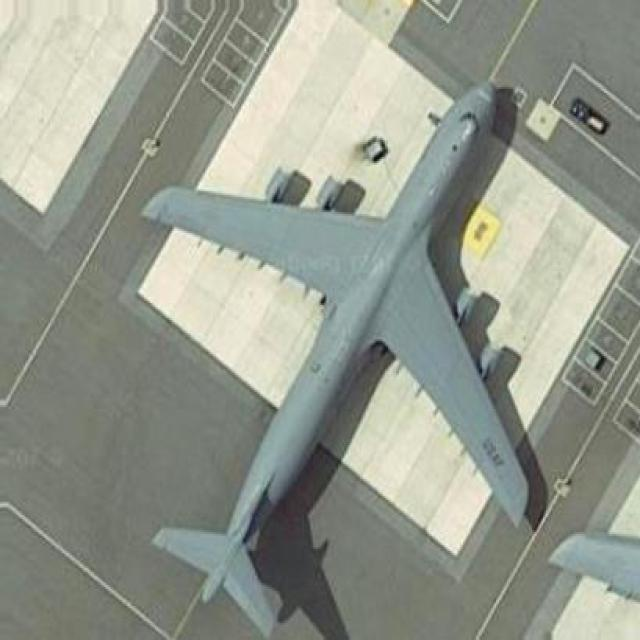C-5_TopDown: (132, 76, 550, 638)
